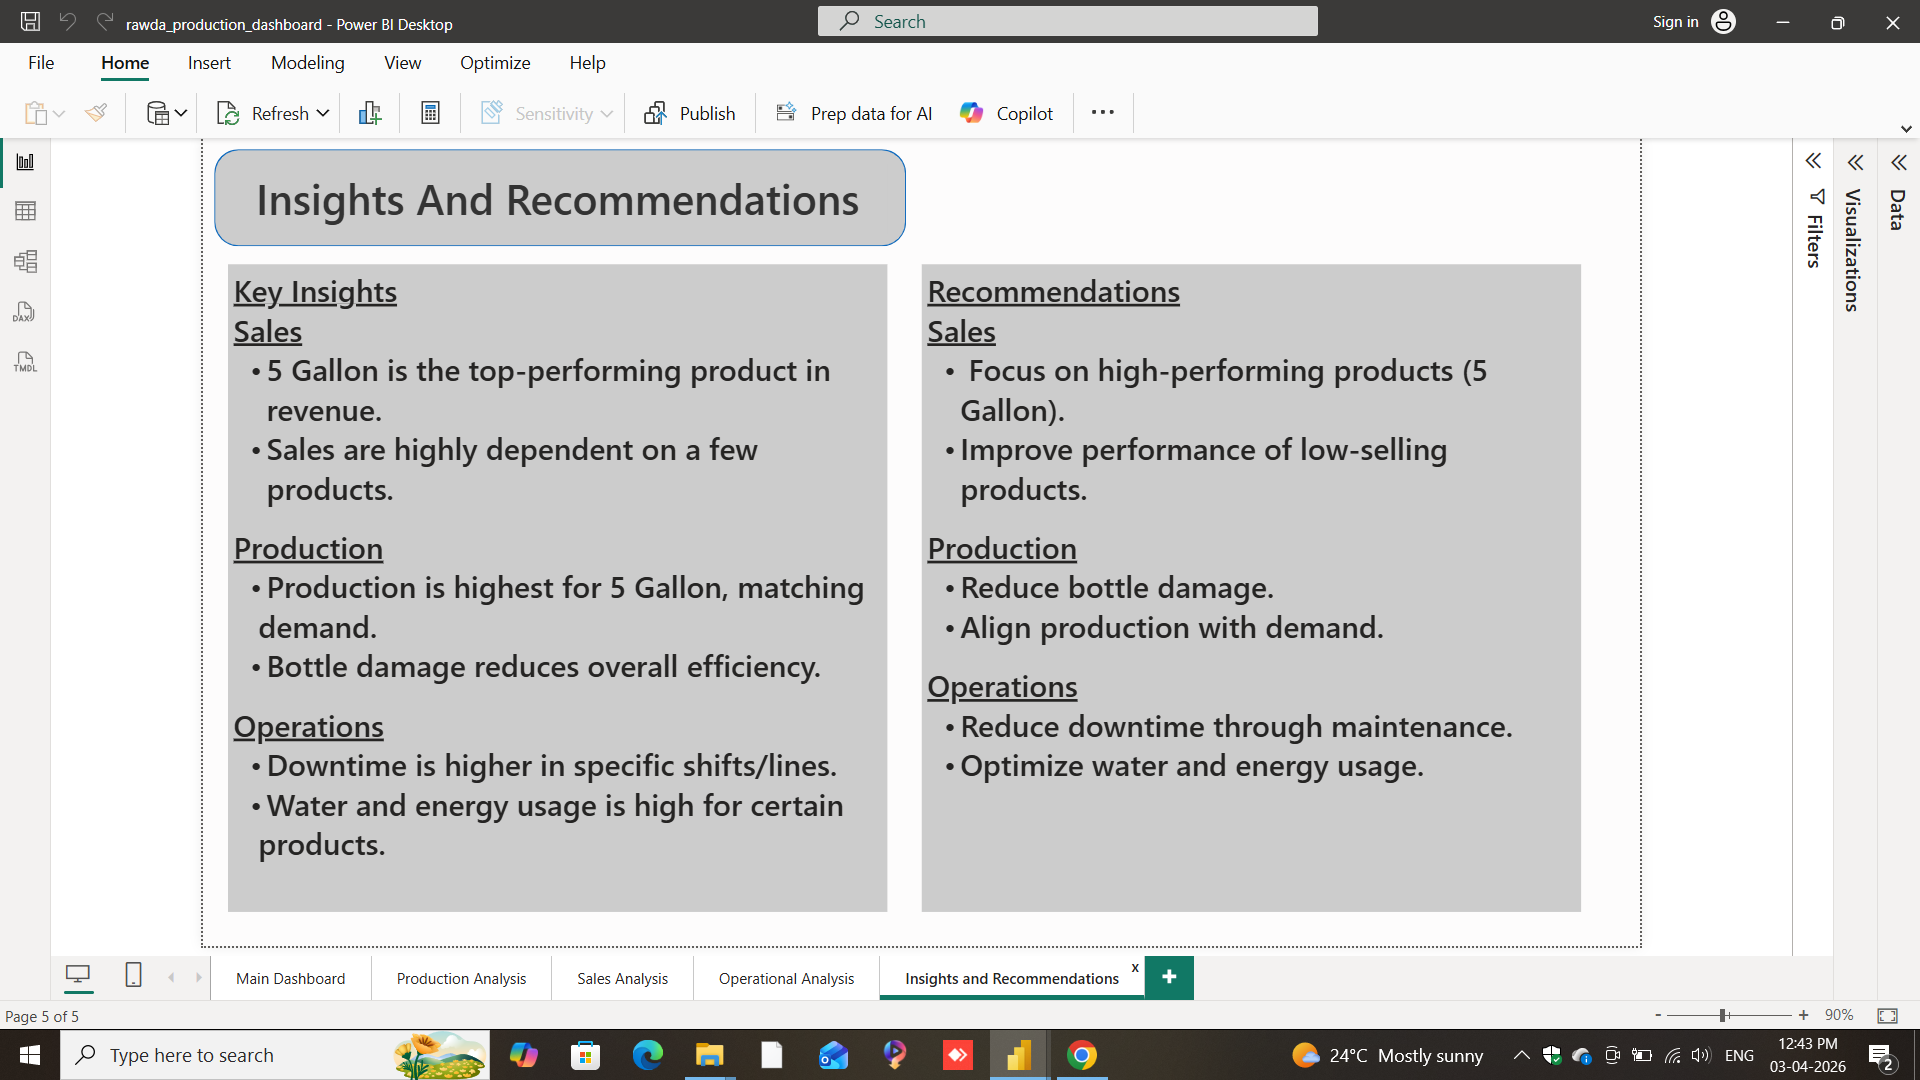

The page's visual inventory and layout, read from the dashboard file:
{"tool":"powerbi","page":{"name":"Insights and Recommendations","canvas":[1280,720],"ordinal":4},"visuals":[{"type":"shape","box":[9.6,9.6,616.1,86.4],"z":0},{"type":"textbox","box":[22,23.3,587.3,61.7],"z":1000},{"type":"textbox","box":[22.1,112.3,587.2,577],"z":2000},{"type":"textbox","box":[640,112.3,587.2,577],"z":3000}]}

Visuals, with their boxes on the page's 1280x720 design canvas (x1, y1, x2, y2). These are canvas units, not pixel positions in the 1920x1080 screenshot, which may show the page scaled, cropped or inside an application window:
shape: detection(10, 10, 626, 96)
textbox: detection(22, 23, 609, 85)
textbox: detection(22, 112, 609, 689)
textbox: detection(640, 112, 1227, 689)
